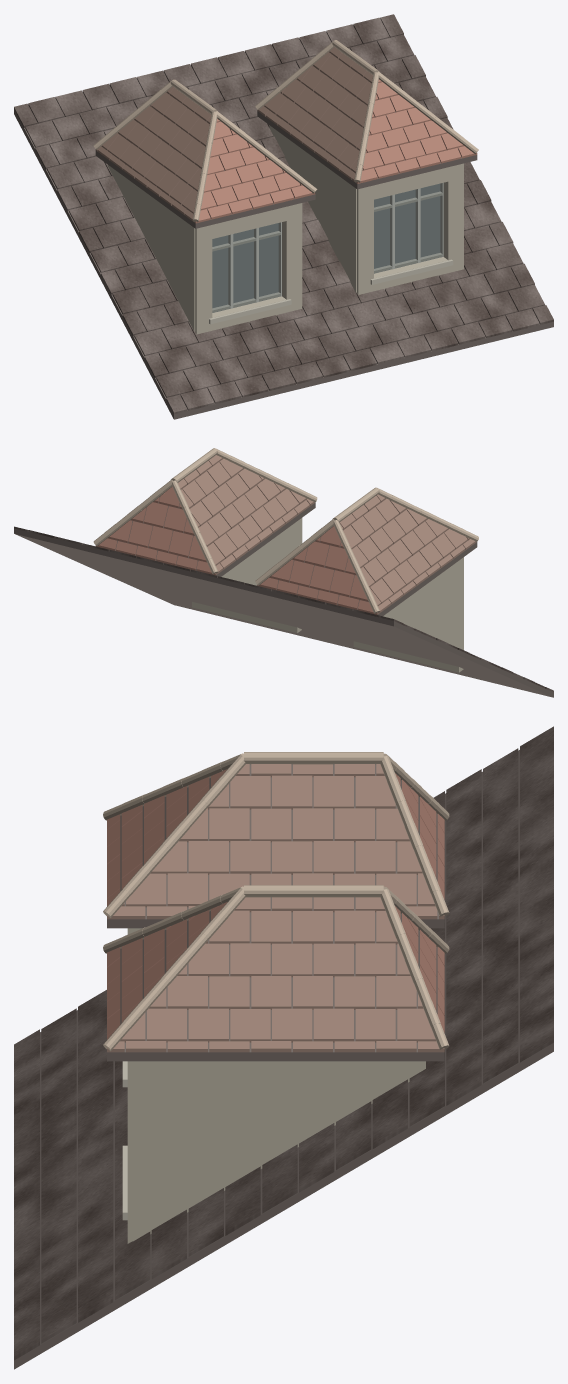
Rendered from baoding-road-twin-hipped-dormers-near.glb.
The picture shows the model from 3 angles, top to bottom: view 1: azimuth 30°, elevation 25°; view 2: azimuth 150°, elevation 25°; view 3: azimuth 270°, elevation 25°; orthographic projection. The views are drawn at different scales.
Parts seen in each view (by area): view 1: 保定路410至448号住宅成对老虎窗与瓦顶斜脊; view 2: 保定路410至448号住宅成对老虎窗与瓦顶斜脊; view 3: 保定路410至448号住宅成对老虎窗与瓦顶斜脊.
Boxes of the visible parts, x1=… form: 保定路410至448号住宅成对老虎窗与瓦顶斜脊: x1=14, y1=14, x2=553, y2=419; 保定路410至448号住宅成对老虎窗与瓦顶斜脊: x1=14, y1=448, x2=553, y2=697; 保定路410至448号住宅成对老虎窗与瓦顶斜脊: x1=14, y1=726, x2=553, y2=1369.
Size of the model in its own units: 3.62 by 2.13 by 2.64.
10 materials, 1 textured.
